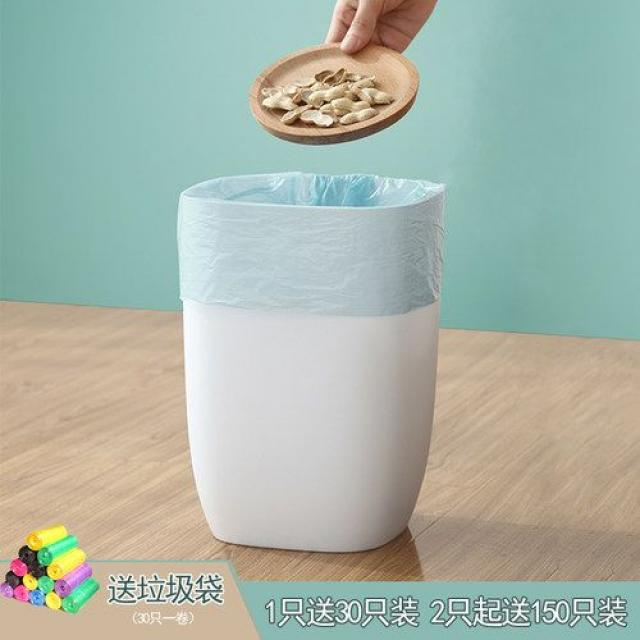Dustbin: (173, 168, 450, 558)
